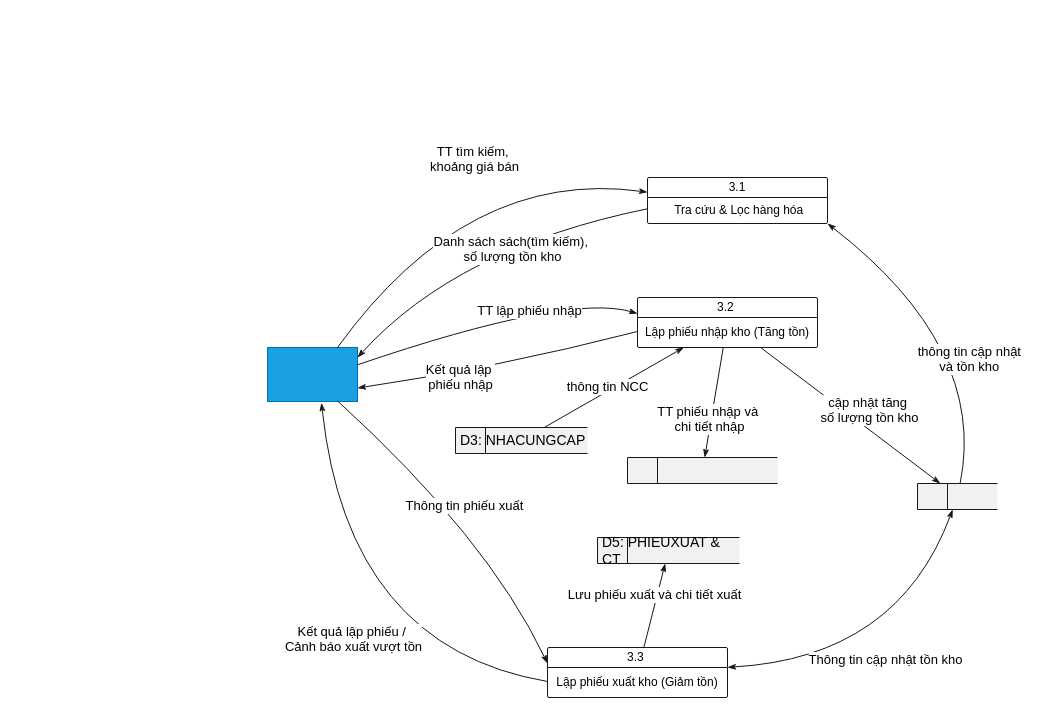
This 1038x715 diagram has some shape labels left out. Here are the shapes that lost their labels. From the top down, the centre of each, then its label:
pixel 312 374: Nhân viên kho (B3)
pixel 702 470: D4: PHIEUNHAP & CT
pixel 957 496: D2: SACH
